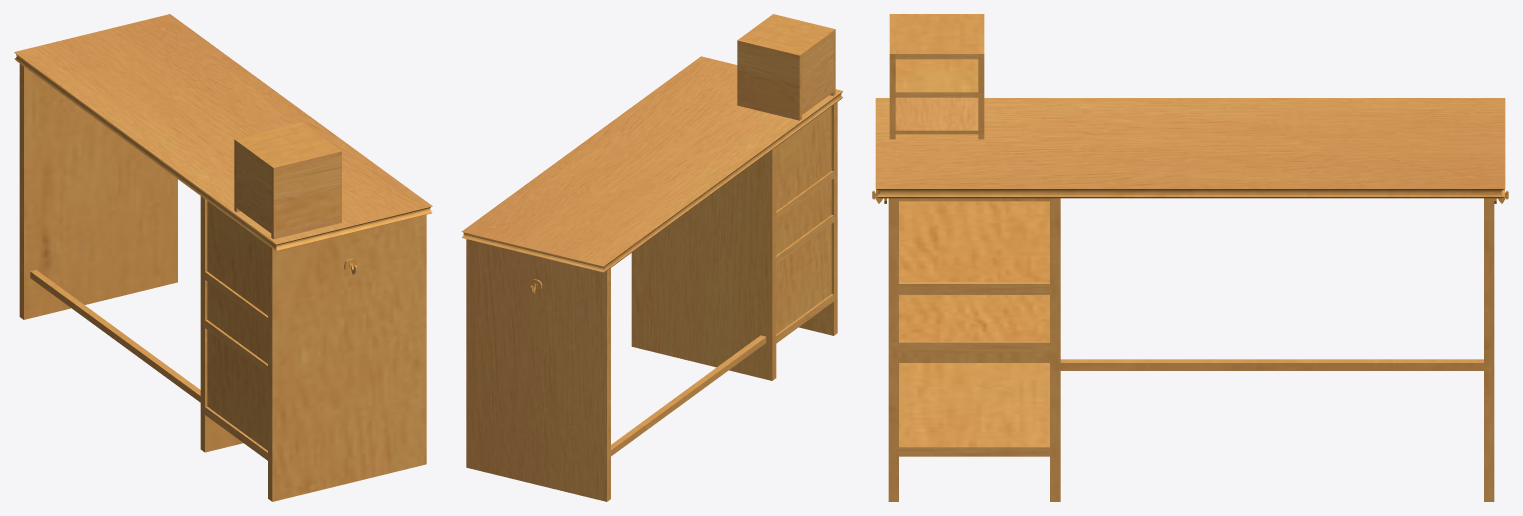
Rendered from table4.fbx.
3 views of the same model, side by side, from view 1: azimuth 30°, elevation 25°; view 2: azimuth 150°, elevation 25°; view 3: azimuth 270°, elevation 25° (orthographic). The views are drawn at different scales.
Visible parts, largest first — view 1: table4; view 2: table4; view 3: table4.
Boxes of the visible parts, left/top/right/bottom form: table4: left=14, top=14, right=432, bottom=501; table4: left=461, top=14, right=842, bottom=501; table4: left=872, top=14, right=1508, bottom=501.
Bounding box in the file's own units: 1.83 × 0.6222 × 1.27.
